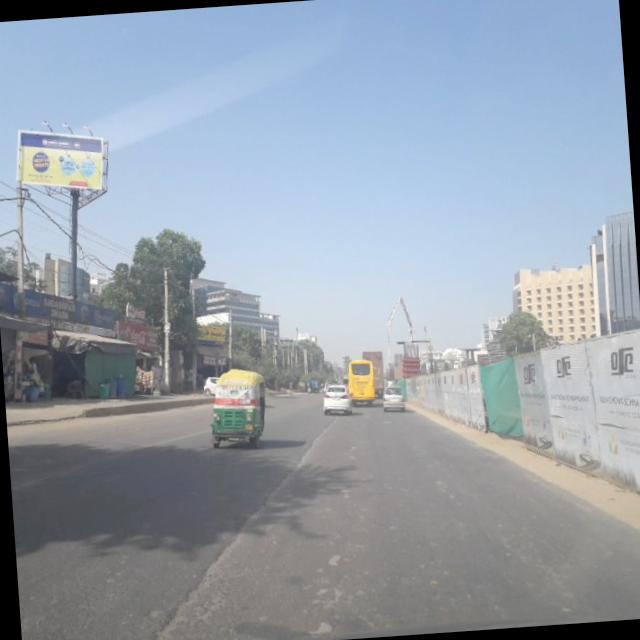pothole: (144, 441, 326, 638)
